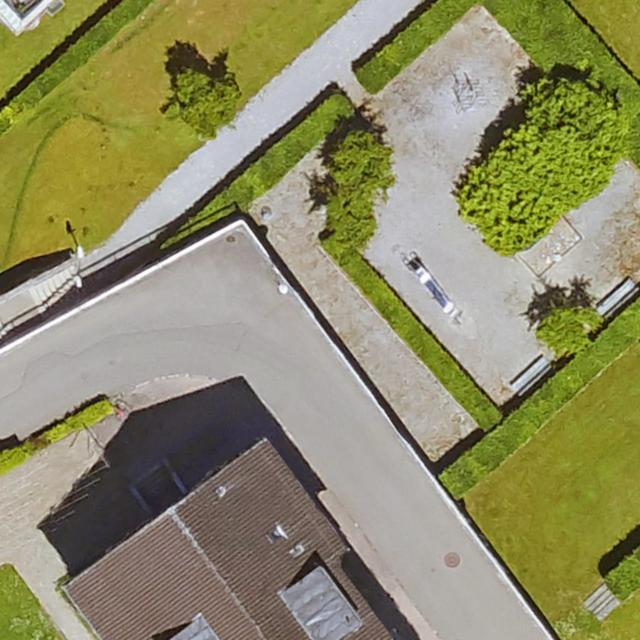tree: (167, 69, 241, 134), (537, 304, 592, 351)
